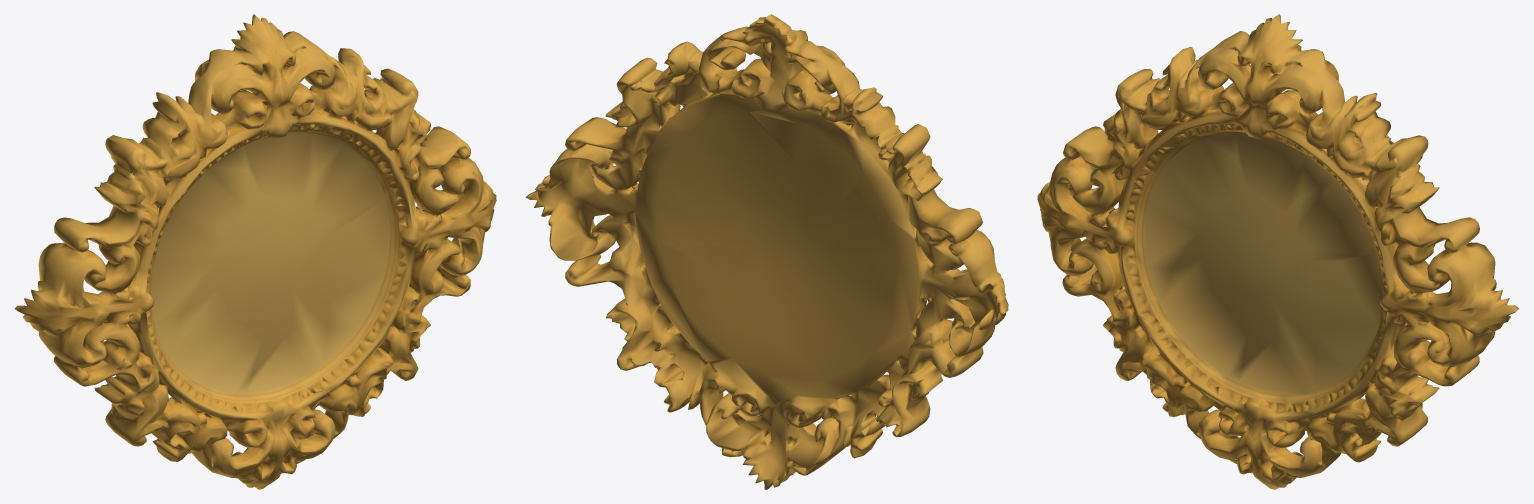
File: plaque_cartouche.glb
3 renders of one model, left to right at view 1: azimuth 30°, elevation 25°; view 2: azimuth 150°, elevation 25°; view 3: azimuth 330°, elevation 25°, orthographic.
Size of the model in its own units: 1.91 by 1.8 by 0.2466.
Materials: 1 (1 with a texture image).
